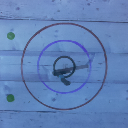Axe Tip: (60, 70, 71, 73)
